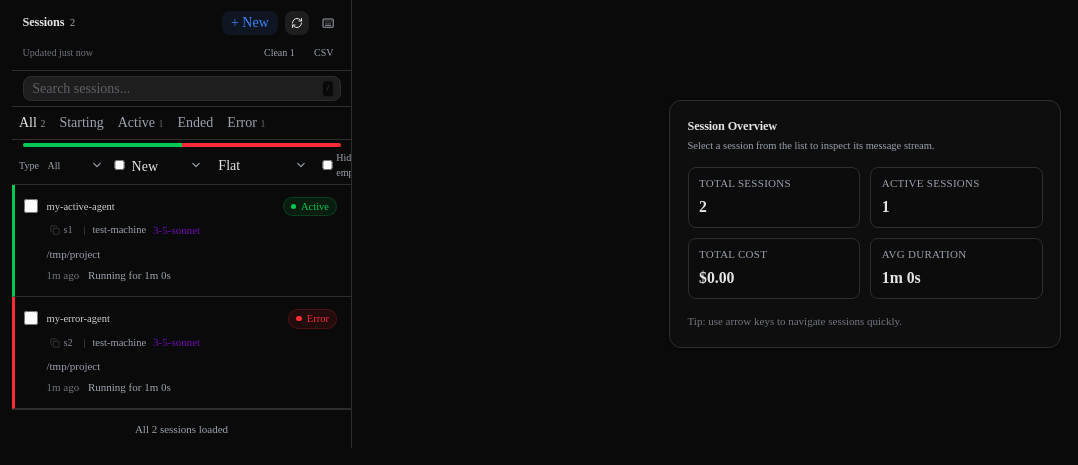
Test case: SessionsPage › clicking Error tab filters to only error sessions
Expected: the text "my-error-agent" is shown, 46,312 -> 110,326
Click the button "Error1" at (246, 123), box 220,107 -> 272,138
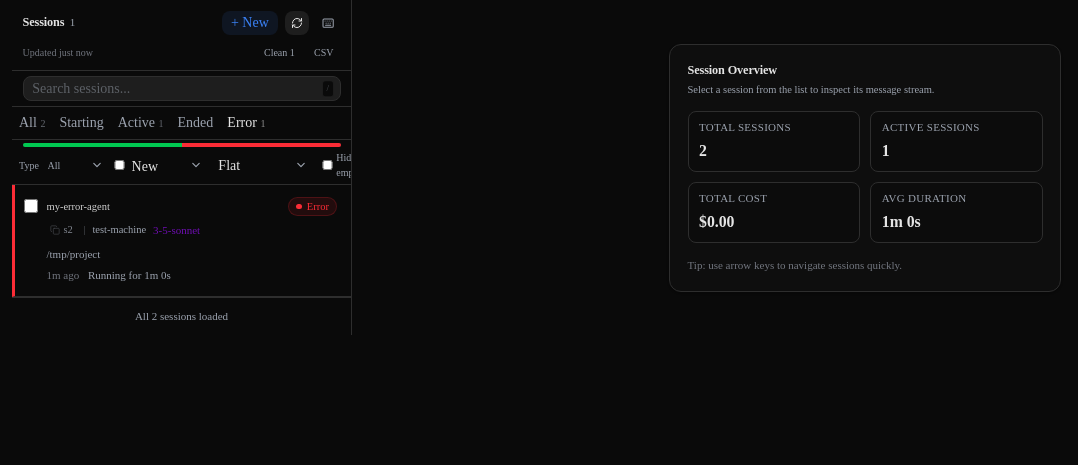
Expected: the text "my-error-agent" is shown, 46,200 -> 110,214
Now the button "my-active-agent" is gone
